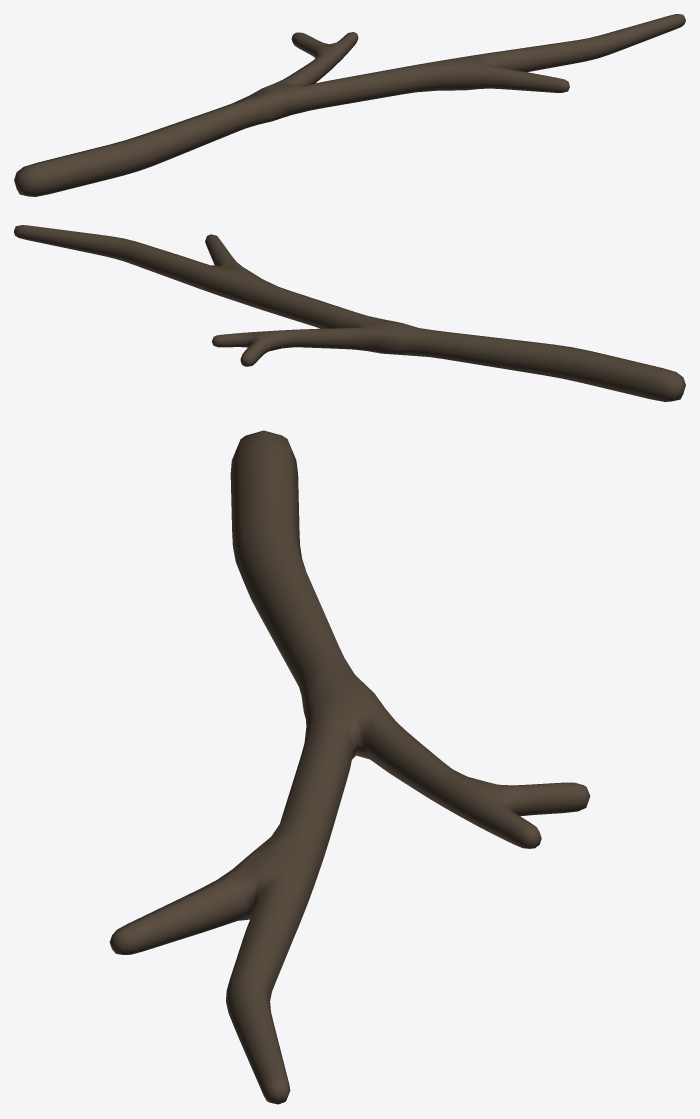
File: Branch4_2.fbx
3 views of the same model, one above another, from view 1: azimuth 30°, elevation 25°; view 2: azimuth 150°, elevation 25°; view 3: azimuth 270°, elevation 25° (orthographic). The views are drawn at different scales.
Visible parts, largest first — view 1: Plane.010; view 2: Plane.010; view 3: Plane.010.
Boxes of the visible parts, x1,y1,x2,y2 form: Plane.010: (14,14,685,196); Plane.010: (14,225,685,401); Plane.010: (109,430,590,1104).
Bounding box in the file's own units: 2043 × 89.57 × 638.
